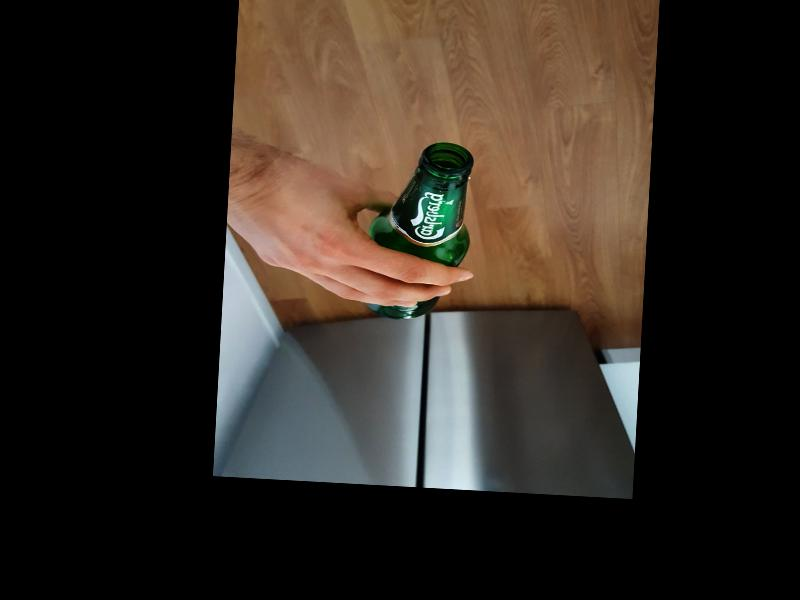Beer: (364, 138, 474, 322)
